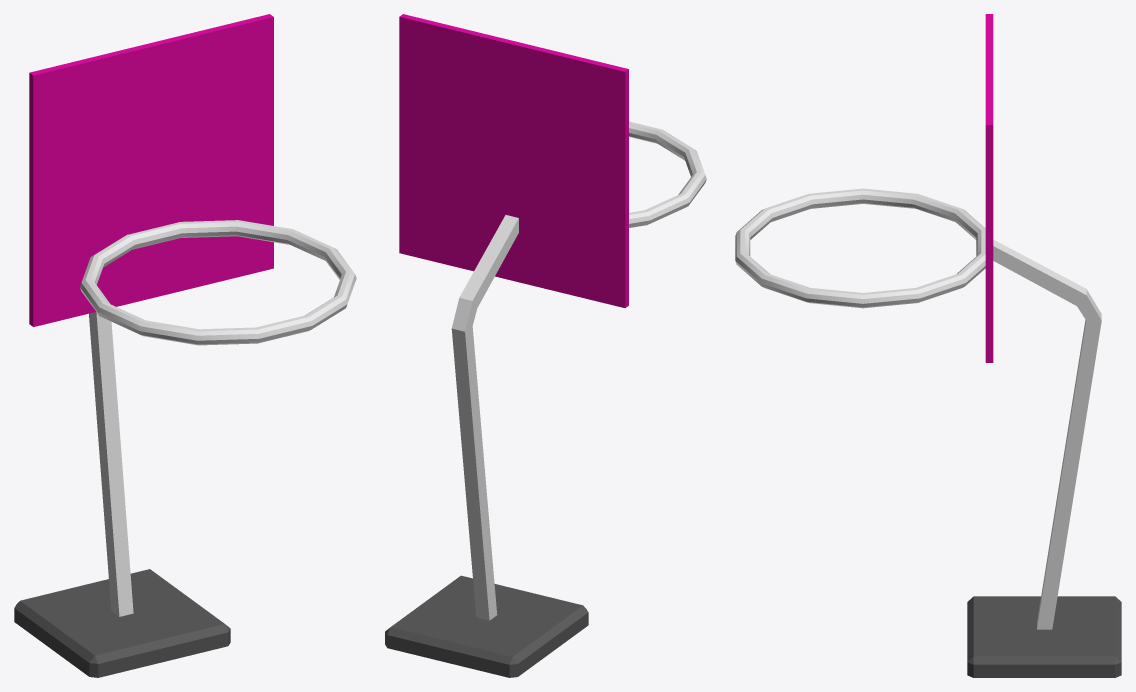
Rendered from basketballHoop 1.fbx.
The picture shows the model from 3 angles, left to right: view 1: azimuth 30°, elevation 25°; view 2: azimuth 150°, elevation 25°; view 3: azimuth 270°, elevation 25°; orthographic projection. The views are drawn at different scales.
Parts seen in each view (by area): view 1: basketballHoop; view 2: basketballHoop; view 3: basketballHoop.
Part boxes in pixels (x1,y1,x2,y2): basketballHoop: (14,14,356,677); basketballHoop: (385,14,706,677); basketballHoop: (735,14,1121,677).
Bounding box in the file's own units: 1.7 × 4.11 × 2.5.
